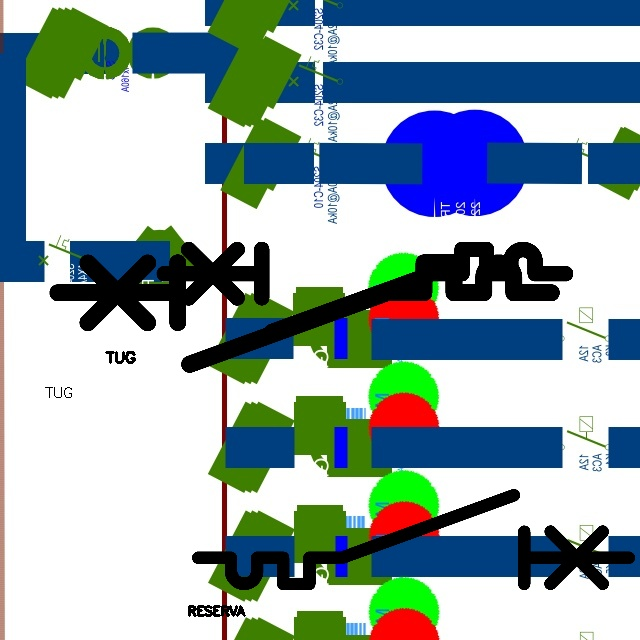interruptor_termomagnetico: (45, 250, 564, 377), (187, 484, 639, 595), (153, 239, 575, 342)
